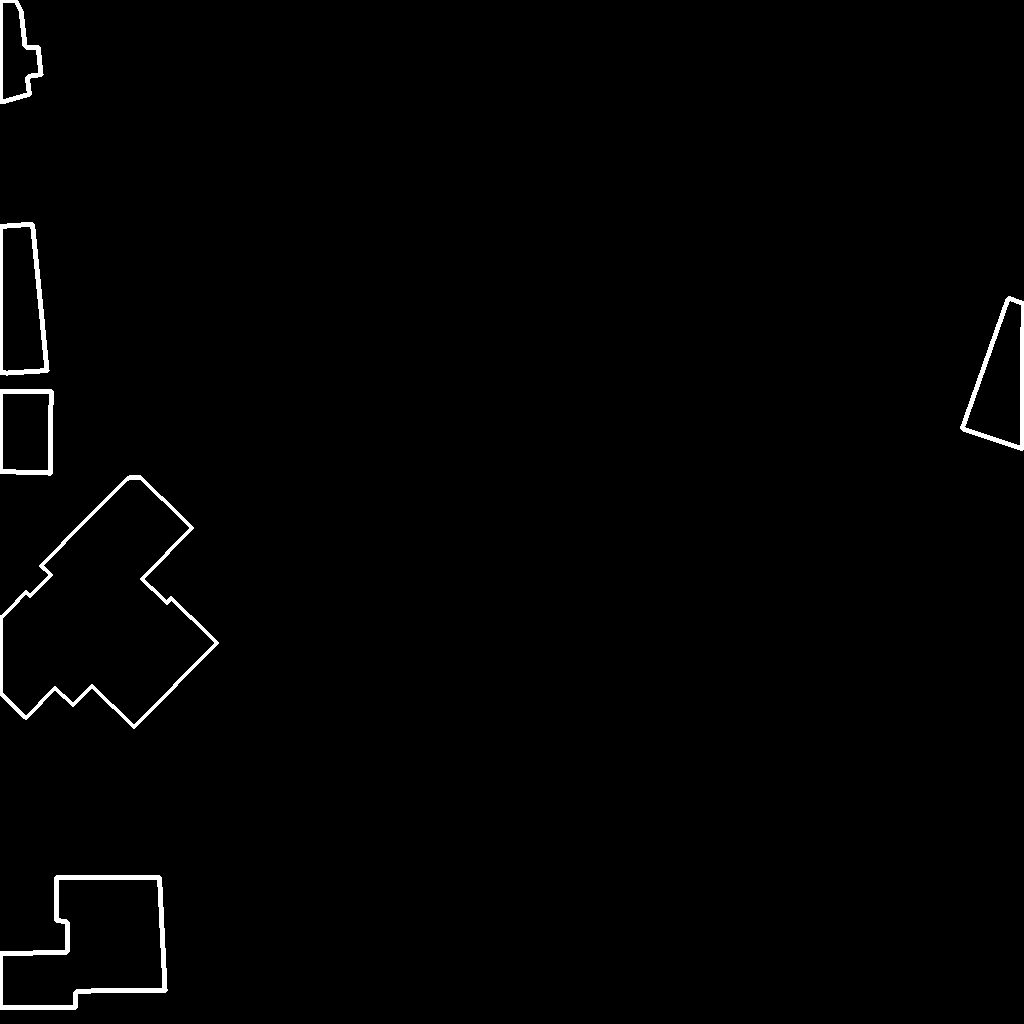building: (0, 477, 218, 728), (0, 877, 166, 1008), (962, 298, 1024, 450), (0, 224, 48, 374), (0, 0, 42, 103), (0, 391, 52, 474)
